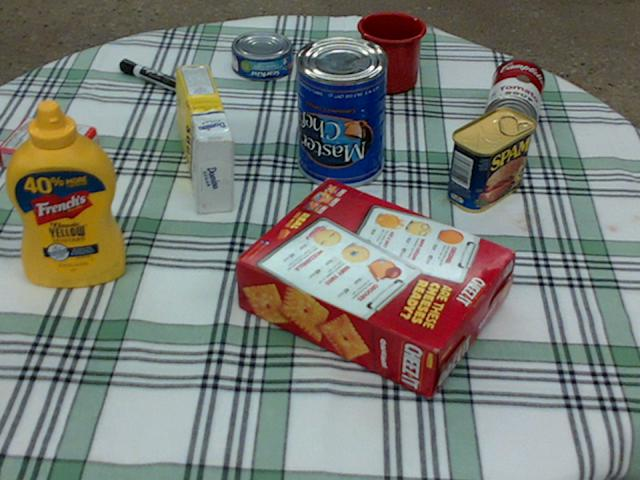cracker_box: (236, 178, 514, 398)
gelatin_box: (0, 118, 97, 177)
large_marker: (120, 58, 193, 96)
master_chef_can: (295, 36, 387, 186)
mug: (358, 11, 427, 93)
mustard_bottle: (6, 100, 124, 285)
potted_meat_can: (446, 108, 533, 212)
sugar_box: (175, 64, 232, 213)
tomato_soup_can: (482, 59, 544, 142)
tuna_fish_can: (232, 31, 292, 79)
